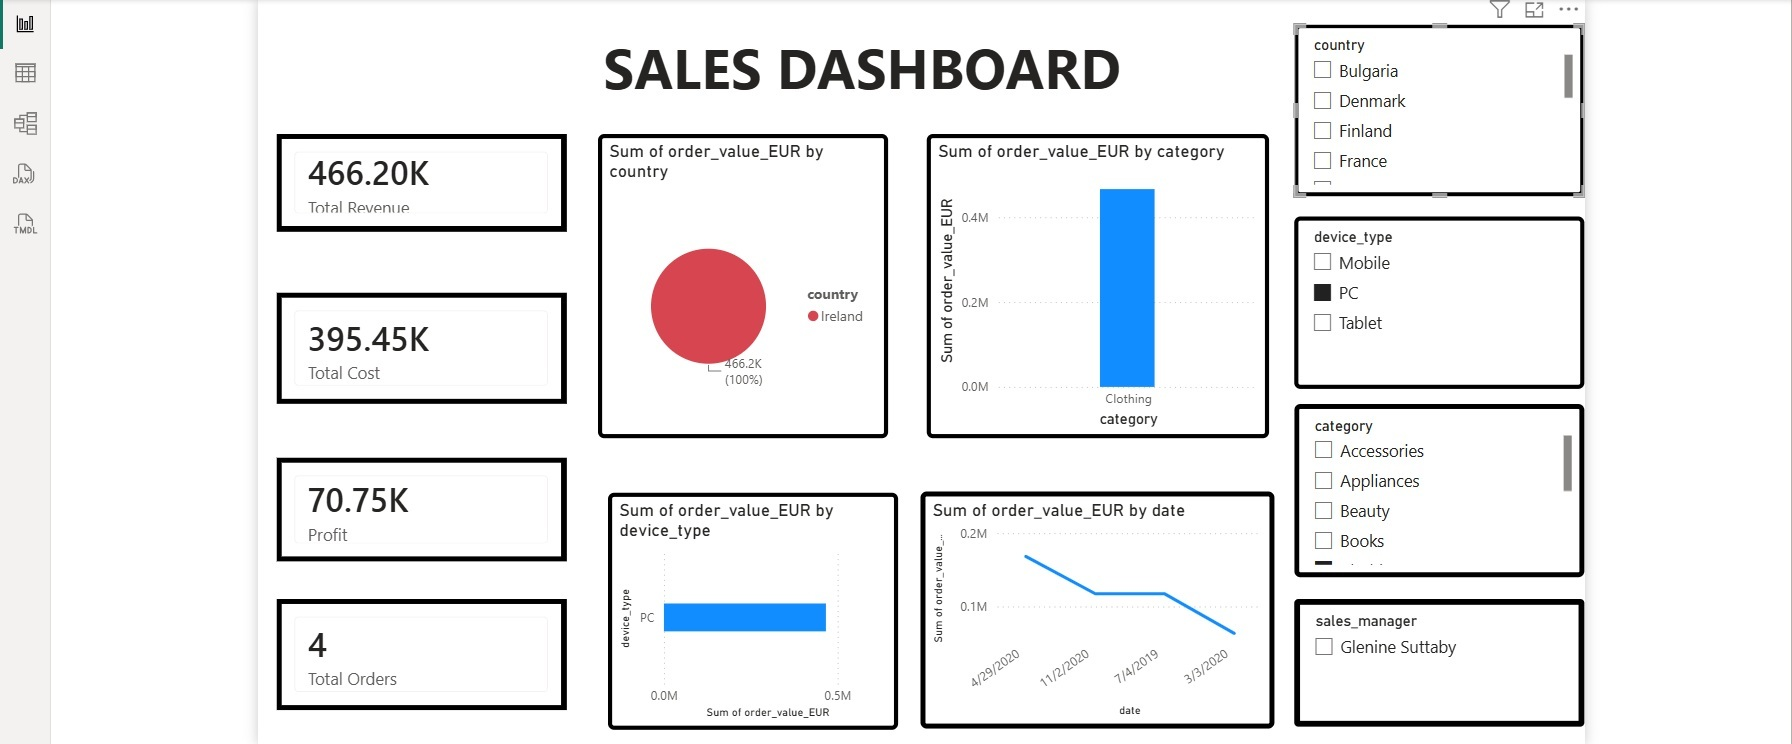

This screenshot's page, from the dashboard's own definition file:
{"tool":"powerbi","page":{"name":"Page 1","canvas":[1280,720],"ordinal":0},"visuals":[{"type":"cardVisual","fields":{"Data":["Sales_data.Total Revenue"]},"box":[17.8,130.4,279.9,94.7],"z":0},{"type":"cardVisual","fields":{"Data":["Sales_data.Total Cost"]},"box":[17.8,284,279.9,107],"z":1},{"type":"cardVisual","fields":{"Data":["Sales_data.Profit"]},"box":[17.8,443.2,279.9,100.2],"z":2},{"type":"cardVisual","fields":{"Data":["Sales_data.Total Orders"]},"box":[17.8,579.1,279.9,107],"z":3},{"type":"lineChart","fields":{"Category":["Sales_data.date"],"Y":["Sum(Sales_data.order_value_EUR)"]},"box":[639.5,474.8,341.7,229.2],"z":4},{"type":"clusteredColumnChart","fields":{"Category":["Sales_data.category"],"Y":["Sum(Sales_data.order_value_EUR)"]},"box":[644.9,130.4,330.7,293.7],"z":5},{"type":"pieChart","fields":{"Category":["Sales_data.country"],"Y":["Sum(Sales_data.order_value_EUR)"]},"box":[328,130.4,279.9,293.7],"z":6},{"type":"barChart","fields":{"Category":["Sales_data.device_type"],"Y":["Sum(Sales_data.order_value_EUR)"]},"box":[337.6,476.2,279.9,229.2],"z":7},{"type":"slicer","fields":{"Values":["Sales_data.country"]},"box":[1000.3,24.7,279.9,166],"z":8},{"type":"slicer","fields":{"Values":["Sales_data.category"]},"box":[1000.3,391.1,279.9,167.4],"z":9},{"type":"slicer","fields":{"Values":["Sales_data.device_type"]},"box":[1000.3,209.9,279.9,166],"z":10},{"type":"slicer","fields":{"Values":["Sales_data.sales_manager"]},"box":[1000.3,579.1,279.9,123.5],"z":11},{"type":"textbox","box":[328,24.7,531,83.7],"z":12}]}

Visuals, with their boxes in screenshot pixels (x1, y1, x2, y2):
cardVisual - Sales_data.Total Revenue: (x1=289, y1=137, x2=573, y2=233)
cardVisual - Sales_data.Total Cost: (x1=289, y1=293, x2=573, y2=402)
cardVisual - Sales_data.Profit: (x1=289, y1=455, x2=573, y2=557)
cardVisual - Sales_data.Total Orders: (x1=289, y1=593, x2=573, y2=702)
lineChart - Sales_data.date x Sum(Sales_data.order_value_EUR): (x1=921, y1=487, x2=1268, y2=720)
clusteredColumnChart - Sales_data.category x Sum(Sales_data.order_value_EUR): (x1=926, y1=137, x2=1262, y2=436)
pieChart - Sales_data.country x Sum(Sales_data.order_value_EUR): (x1=604, y1=137, x2=888, y2=436)
barChart - Sales_data.device_type x Sum(Sales_data.order_value_EUR): (x1=614, y1=489, x2=898, y2=722)
slicer - Sales_data.country: (x1=1287, y1=30, x2=1572, y2=198)
slicer - Sales_data.category: (x1=1287, y1=402, x2=1572, y2=572)
slicer - Sales_data.device_type: (x1=1287, y1=218, x2=1572, y2=387)
slicer - Sales_data.sales_manager: (x1=1287, y1=593, x2=1572, y2=719)
textbox: (x1=604, y1=30, x2=1144, y2=115)
